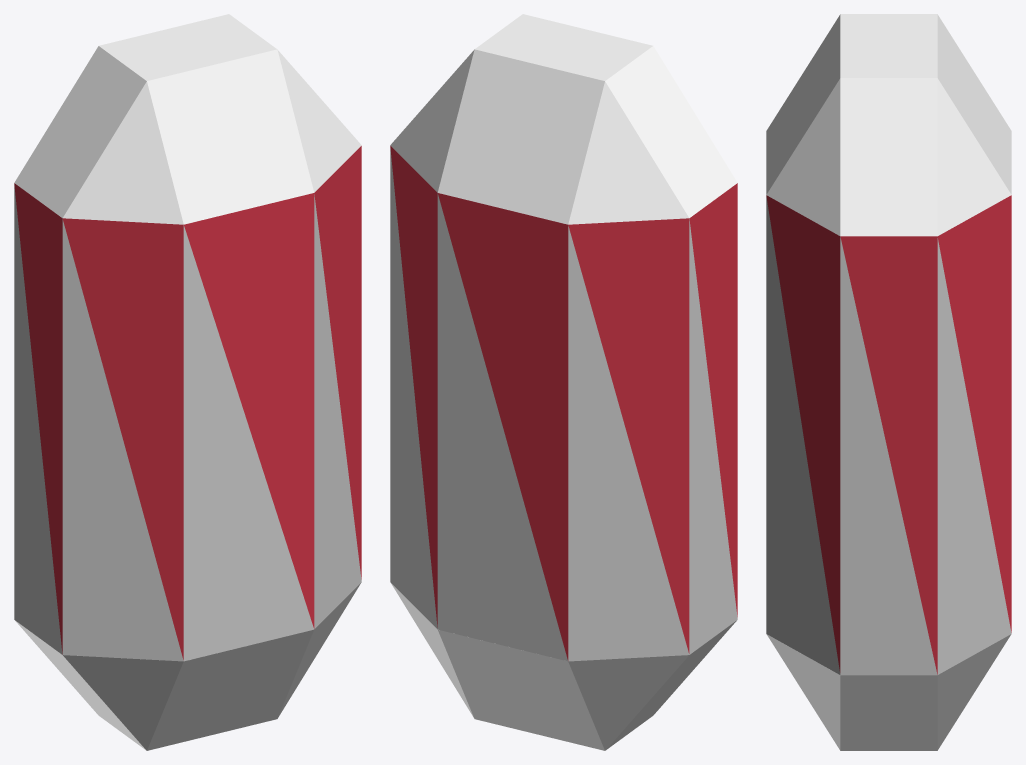
The model's file is Gem3.glb.
3 views of the same model, side by side, from view 1: azimuth 30°, elevation 25°; view 2: azimuth 150°, elevation 25°; view 3: azimuth 270°, elevation 25° (orthographic).
Parts seen in each view (by area): view 1: Gem3; view 2: Gem3; view 3: Gem3.
Boxes of the visible parts, bbox=[...] form: Gem3: bbox=[14, 14, 361, 750]; Gem3: bbox=[390, 14, 737, 750]; Gem3: bbox=[766, 14, 1011, 750].
Size of the model in its own units: 0.9862 by 2.11 by 0.6969.
